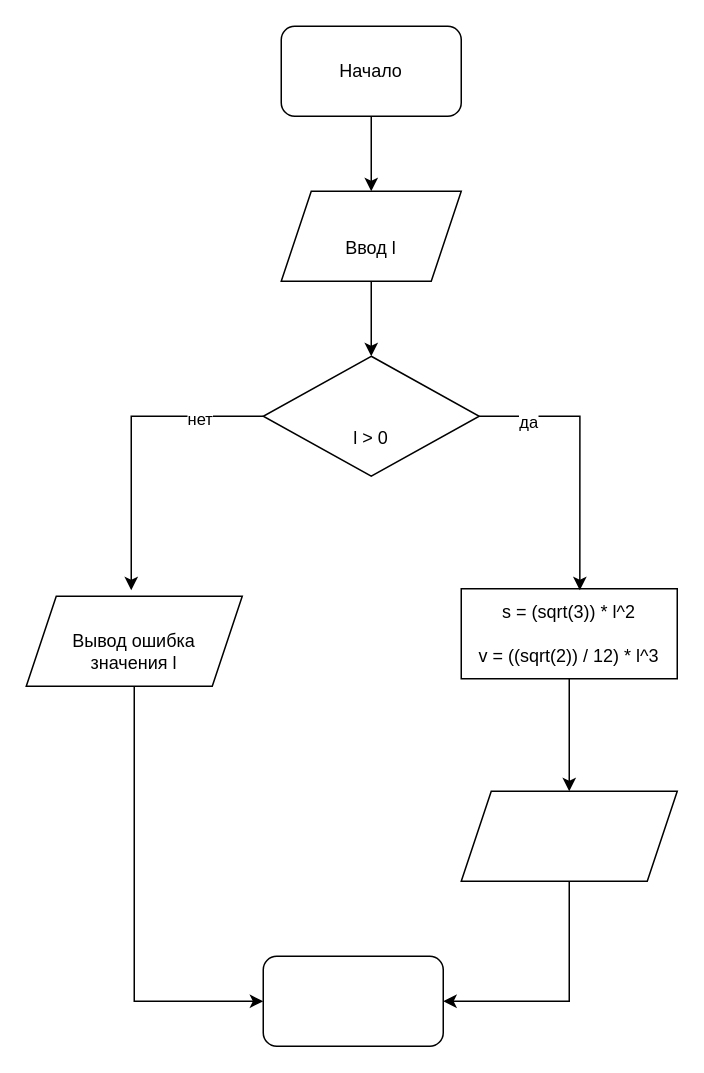
Some shapes in this 704 by 1073 pixel diagram are drawn without their labels. Each missing label, with the box of its shape:
Вывод s, v: (460, 790, 677, 881)
конец: (262, 955, 443, 1046)
